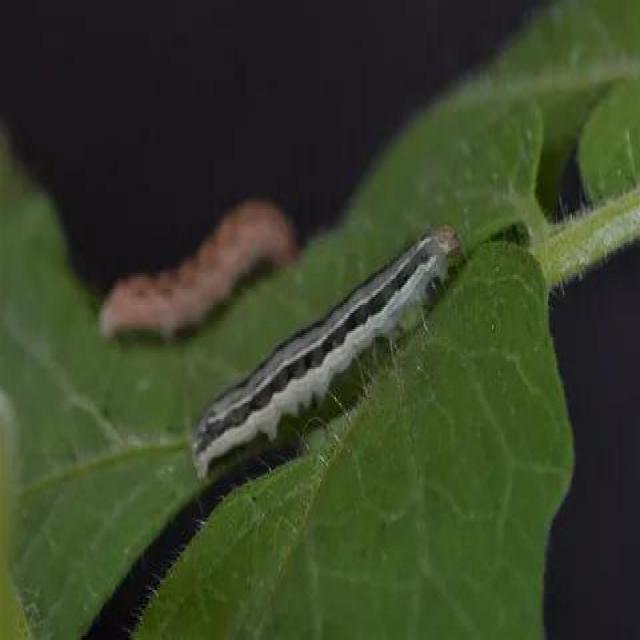BeetArmyWorm-Larva-: (188, 217, 470, 487)
